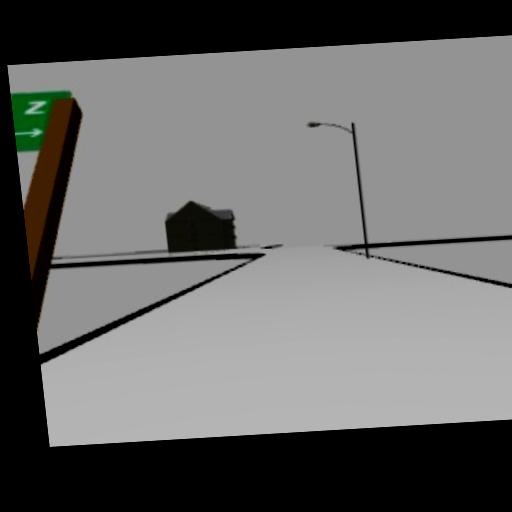Right: (14, 126, 45, 138)
Z: (21, 97, 49, 114)
